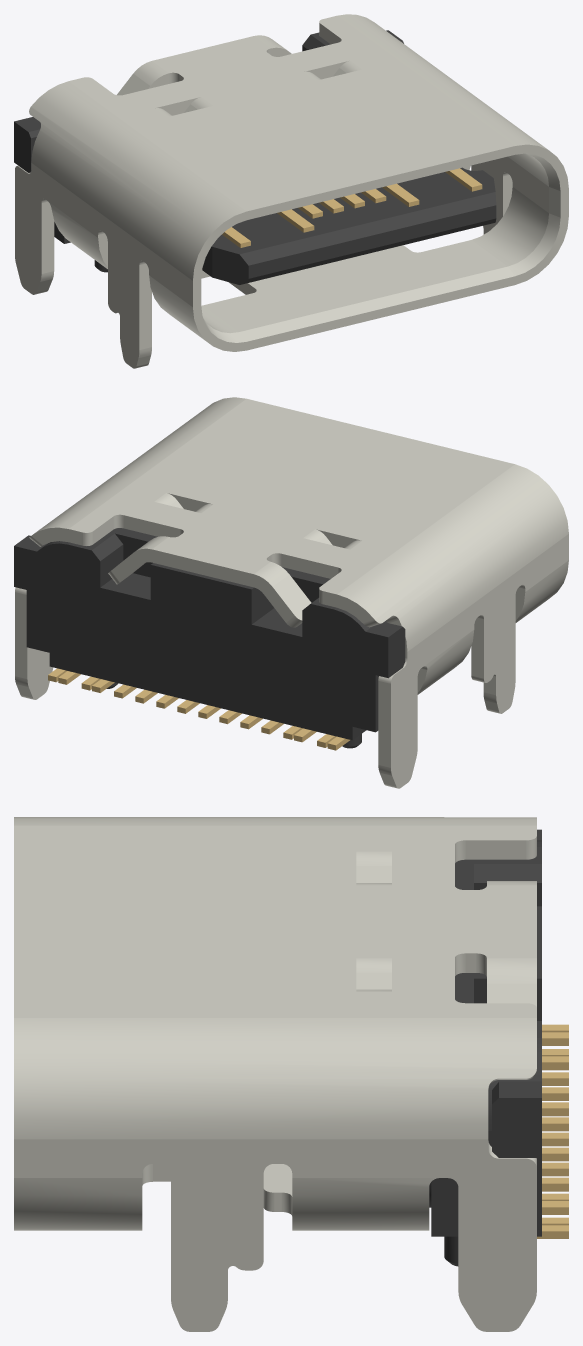
Rendered from kc-usb_c_receptacle_gct_usb4105-xx-a_16p_topmnt_horizontal.glb.
3 views of the same model, one above another, from view 1: azimuth 30°, elevation 25°; view 2: azimuth 150°, elevation 25°; view 3: azimuth 270°, elevation 25° (orthographic). The views are drawn at different scales.
Parts seen in each view (by area): view 1: 0.6666666666666666_0.6666666666666666_0.5833333333333334_0.8, 0.08333333333333333_0.08333333333333333_0.08333333333333333_, 0.75_0.5_0.25_0.9; view 2: 0.6666666666666666_0.6666666666666666_0.5833333333333334_0.8, 0.08333333333333333_0.08333333333333333_0.08333333333333333_, 0.75_0.5_0.25_0.9; view 3: 0.6666666666666666_0.6666666666666666_0.5833333333333334_0.8, 0.08333333333333333_0.08333333333333333_0.08333333333333333_, 0.75_0.5_0.25_0.9.
Boxes of the visible parts, x1,y1,x2,y2 form: 0.6666666666666666_0.6666666666666666_0.5833333333333334_0.8: (15,14,568,368); 0.08333333333333333_0.08333333333333333_0.08333333333333333_: (14,30,496,284); 0.75_0.5_0.25_0.9: (222,168,482,247); 0.6666666666666666_0.6666666666666666_0.5833333333333334_0.8: (15,397,568,788); 0.08333333333333333_0.08333333333333333_0.08333333333333333_: (14,528,405,748); 0.75_0.5_0.25_0.9: (48,668,349,750); 0.6666666666666666_0.6666666666666666_0.5833333333333334_0.8: (14,817,536,1331); 0.08333333333333333_0.08333333333333333_0.08333333333333333_: (429,829,541,1266); 0.75_0.5_0.25_0.9: (537,1024,568,1238).
Bounding box in the file's own units: 0.894 × 0.426 × 0.778.
